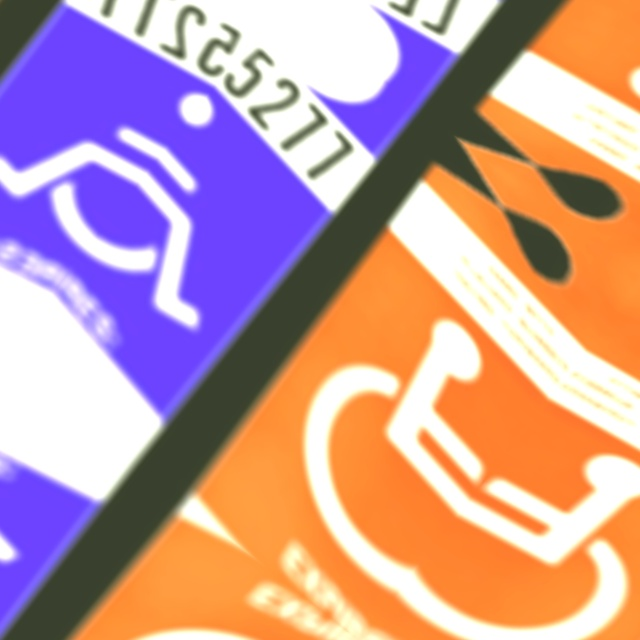ISA: (189, 243, 565, 638), (361, 377, 640, 640), (65, 87, 325, 364), (0, 0, 213, 276), (0, 508, 357, 640), (544, 0, 640, 185), (0, 442, 47, 640), (0, 0, 19, 209), (350, 0, 610, 0)
